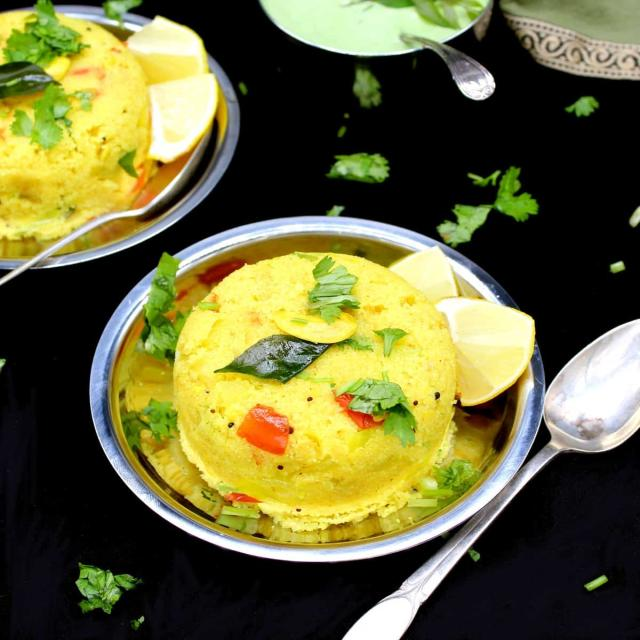UPMA: (168, 254, 455, 532), (0, 3, 152, 256)
